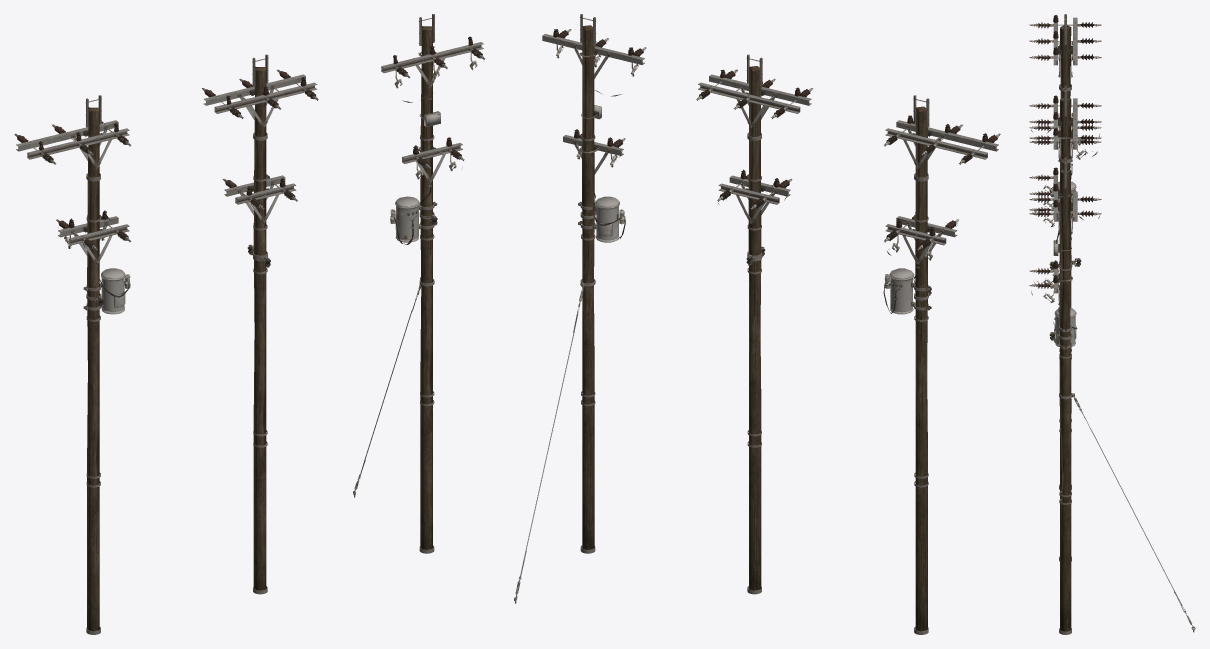
File: modular_electricity_poles.glb
The picture shows the model from 3 angles, left to right: view 1: azimuth 30°, elevation 25°; view 2: azimuth 150°, elevation 25°; view 3: azimuth 270°, elevation 25°; orthographic projection. The views are drawn at different scales.
Parts seen in each view (by area): view 1: preset_02_pole, preset_03_pole, preset_01_pole, preset_02_connection_large_01, preset_03_connection_large_offset_01, preset_03_connection_small_01_02, preset_02_connection_small_01, preset_01_connection_large_02, preset_01_transformer_01, preset_03_transformer_01, preset_01_connection_small_02; view 2: preset_01_pole, preset_03_pole, preset_02_pole, preset_02_connection_large_01, preset_03_connection_large_offset_01, preset_02_connection_small_01, preset_03_connection_small_01_02, preset_03_transformer_01, preset_01_transformer_01, preset_01_connection_large_02, preset_01_connection_small_02; view 3: preset_01_pole, preset_02_connection_large_01, preset_03_connection_large_offset_01, preset_02_pole, preset_03_pole, preset_02_connection_small_01, preset_01_connection_large_02, preset_03_connection_small_01_02, preset_01_transformer_01, preset_01_connection_small_02, preset_01_fastener.
Part boxes in pixels (x1,y1,x2,y2): preset_02_pole: [253, 66, 266, 590]; preset_03_pole: [87, 107, 99, 631]; preset_01_pole: [420, 26, 432, 549]; preset_02_connection_large_01: [202, 69, 318, 127]; preset_03_connection_large_offset_01: [14, 120, 131, 168]; preset_03_connection_small_01_02: [56, 210, 131, 264]; preset_02_connection_small_01: [222, 174, 297, 223]; preset_01_connection_large_02: [381, 36, 485, 87]; preset_01_transformer_01: [390, 184, 437, 244]; preset_03_transformer_01: [83, 268, 130, 314]; preset_01_connection_small_02: [402, 137, 464, 183]; preset_01_pole: [582, 25, 594, 549]; preset_03_pole: [915, 106, 927, 631]; preset_02_pole: [748, 66, 761, 590]; preset_02_connection_large_01: [696, 69, 812, 127]; preset_03_connection_large_offset_01: [884, 115, 1000, 168]; preset_02_connection_small_01: [717, 169, 792, 223]; preset_03_connection_small_01_02: [884, 215, 958, 264]; preset_03_transformer_01: [883, 266, 931, 314]; preset_01_transformer_01: [578, 193, 625, 242]; preset_01_connection_large_02: [542, 29, 646, 78]; preset_01_connection_small_02: [563, 129, 625, 174]; preset_01_pole: [1059, 168, 1071, 631]; preset_02_connection_large_01: [1029, 95, 1101, 149]; preset_03_connection_large_offset_01: [1029, 15, 1101, 77]; preset_02_pole: [1059, 97, 1071, 547]; preset_03_pole: [1059, 25, 1071, 475]; preset_02_connection_small_01: [1029, 191, 1101, 234]; preset_01_connection_large_02: [1029, 167, 1072, 221]; preset_03_connection_small_01_02: [1029, 123, 1101, 162]; preset_01_transformer_01: [1053, 307, 1077, 349]; preset_01_connection_small_02: [1029, 260, 1072, 305]; preset_01_fastener: [1071, 393, 1193, 628].
Size of the model in its own units: 5.45 by 6.13 by 1.96.
Materials: 2 (2 with a texture image).
